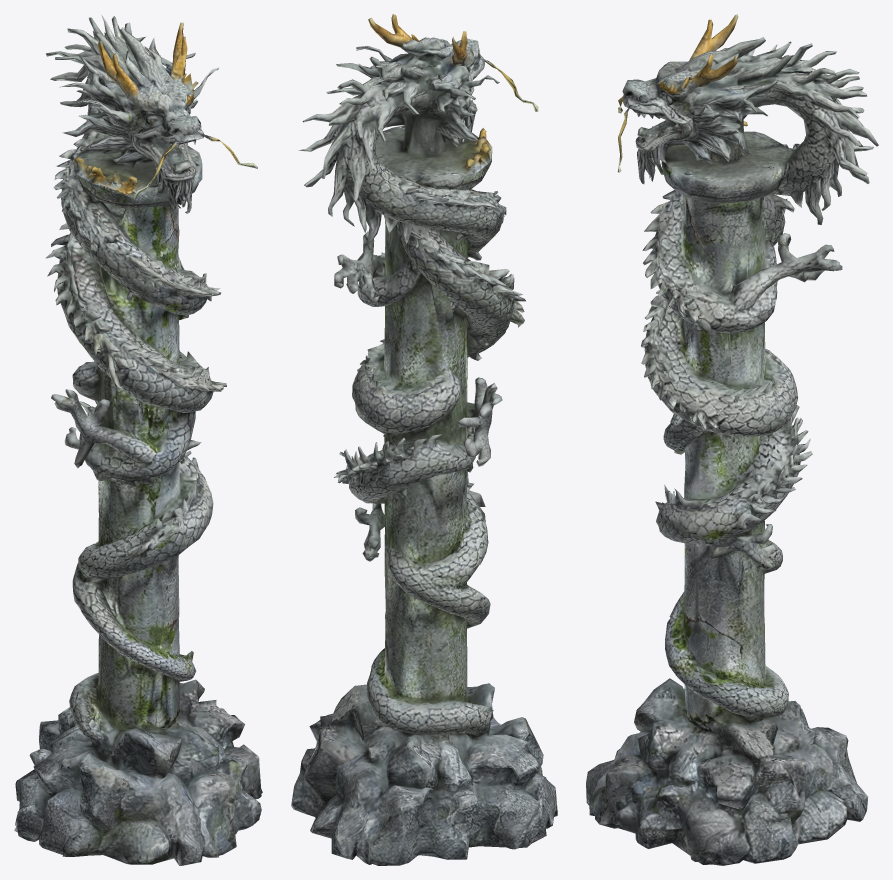
The model's file is dragon_pillar.lod1.glb.
3 views of the same model, side by side, from view 1: azimuth 30°, elevation 25°; view 2: azimuth 150°, elevation 25°; view 3: azimuth 270°, elevation 25° (orthographic).
Visible parts, largest first — view 1: clean; view 2: clean; view 3: clean.
Part boxes in pixels (bbox=[...]): clean: bbox=[14, 15, 262, 865]; clean: bbox=[291, 14, 557, 865]; clean: bbox=[586, 14, 878, 865].
Size of the model in its own units: 48.61 by 150 by 50.93.
Materials: 1 (1 with a texture image).
